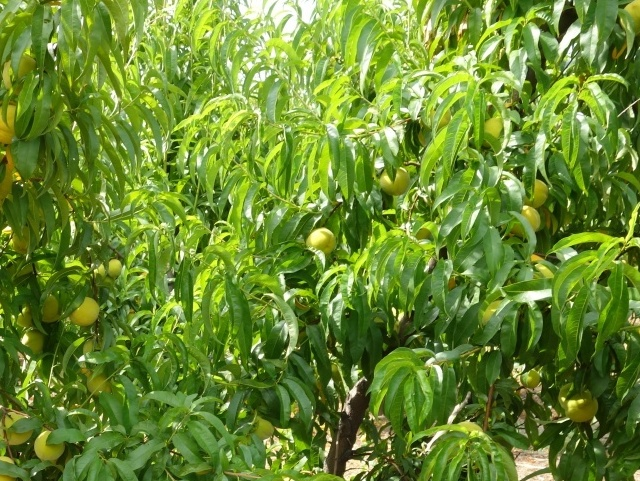peach: (1, 47, 38, 93), (377, 162, 416, 202), (29, 427, 69, 465), (558, 389, 599, 424), (510, 202, 546, 241), (66, 291, 101, 330), (1, 409, 35, 449), (519, 176, 553, 213), (303, 224, 337, 257), (81, 369, 112, 402), (32, 292, 63, 324), (250, 415, 281, 446), (17, 327, 49, 357), (515, 367, 542, 391), (103, 256, 125, 280)
